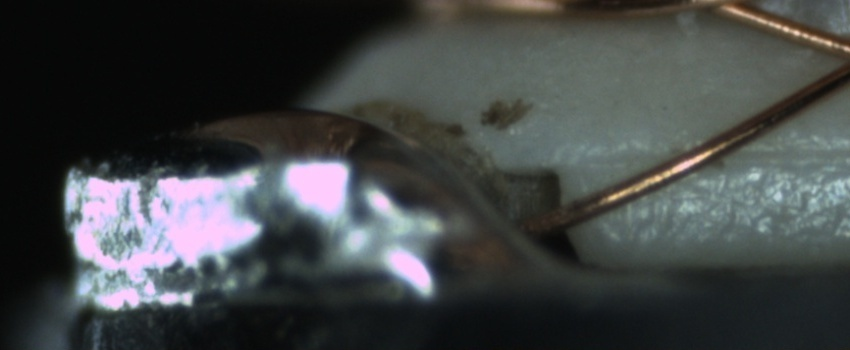CL: (808, 24, 850, 93)
DL: (600, 123, 850, 189)
